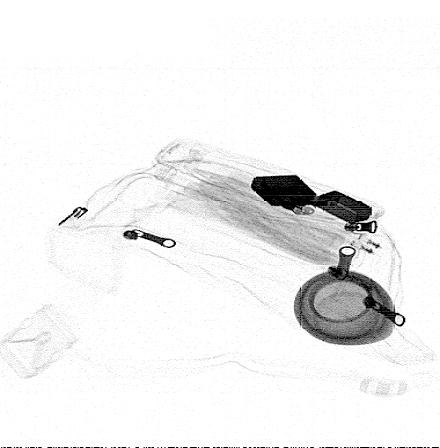Lighter: (250, 174, 372, 225)
